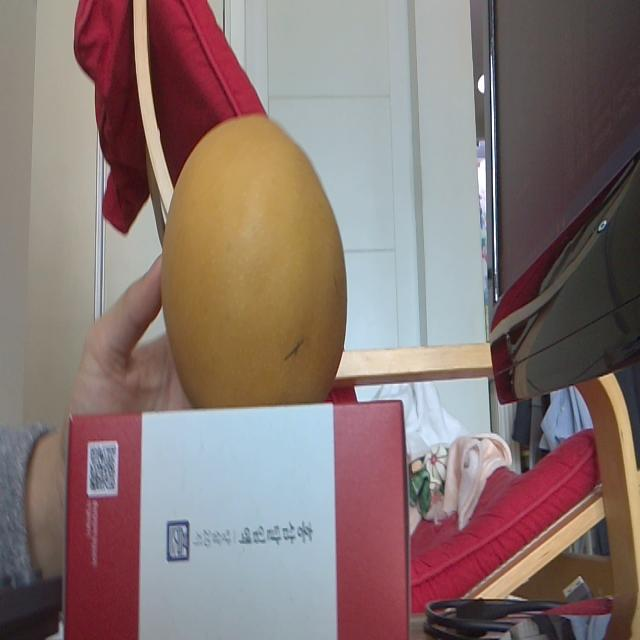pear: (165, 111, 351, 411)
